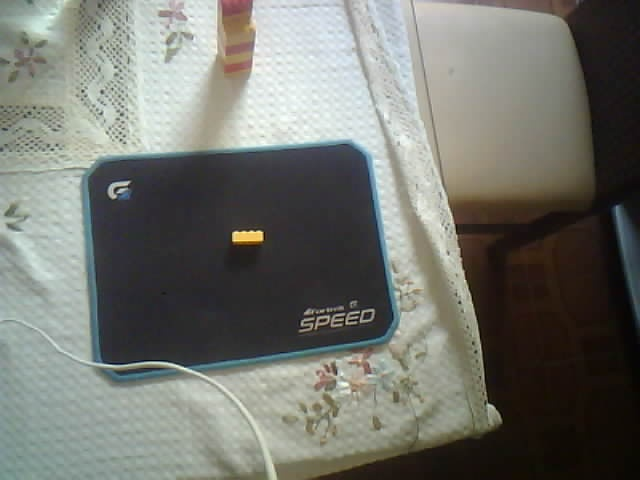lego: (214, 1, 256, 79), (230, 230, 265, 246)
